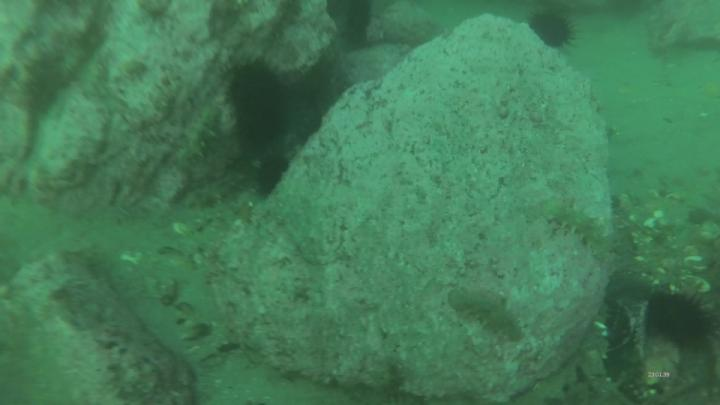echinus: (235, 68, 285, 140), (652, 292, 711, 342), (532, 13, 573, 49), (262, 160, 290, 189)
holothurian: (451, 287, 524, 341), (548, 198, 612, 257), (185, 110, 218, 160)
